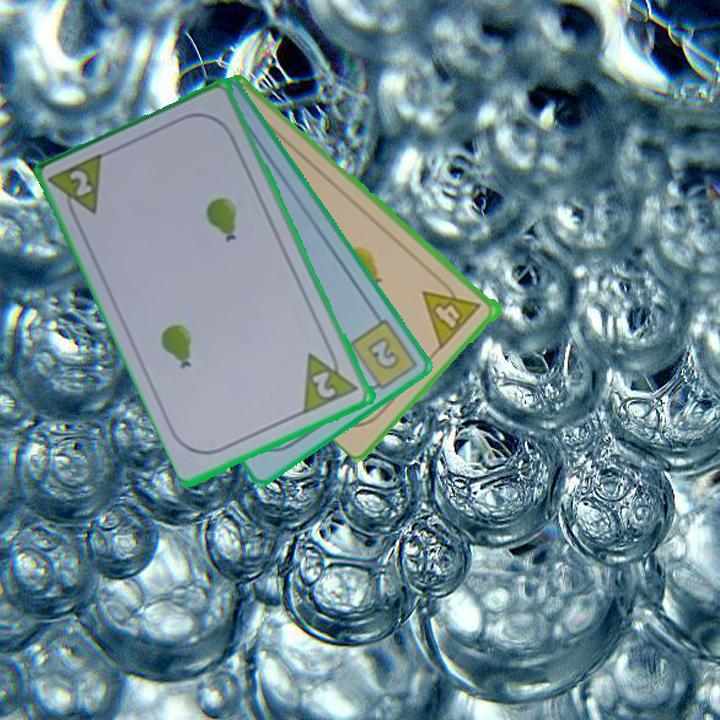2b: (346, 315, 420, 397)
2p: (47, 149, 109, 227), (309, 368, 340, 402)
4p: (419, 273, 485, 350)
